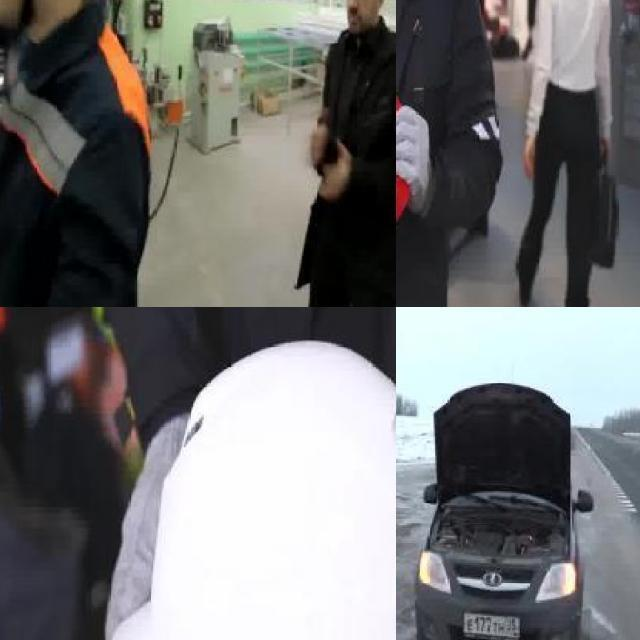apron: (396, 106, 432, 213)
